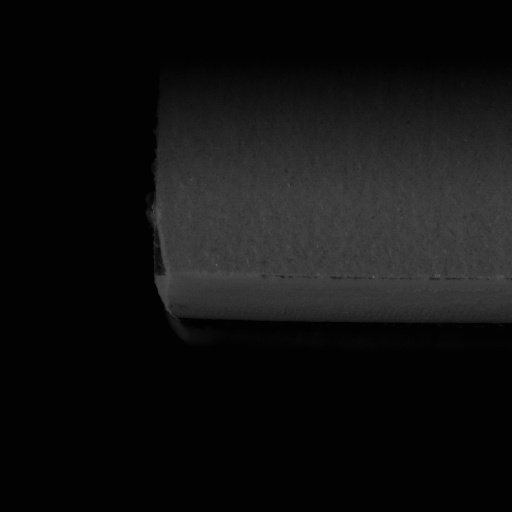bengque: (151, 222, 173, 312)
